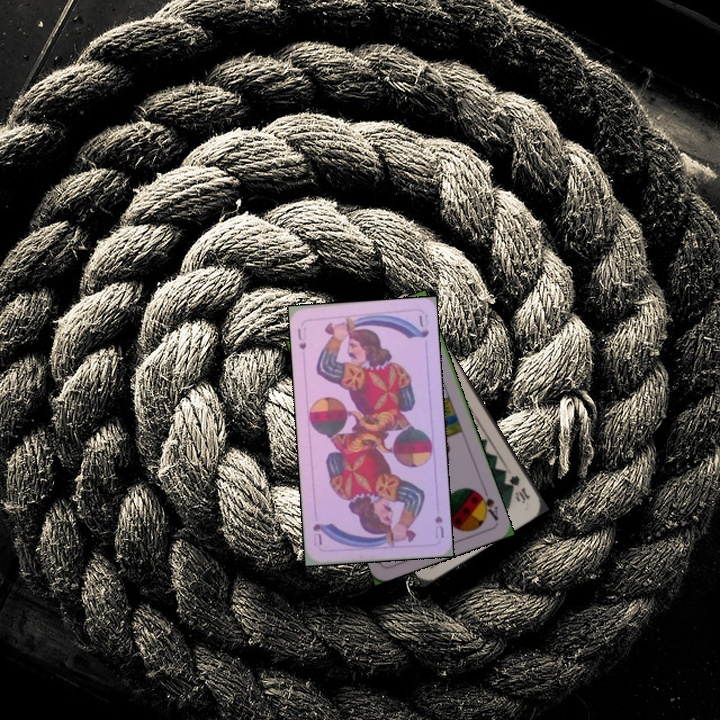G10: (505, 471, 533, 506)
SA: (473, 484, 501, 523)
SU: (431, 512, 447, 541), (293, 324, 309, 352)
